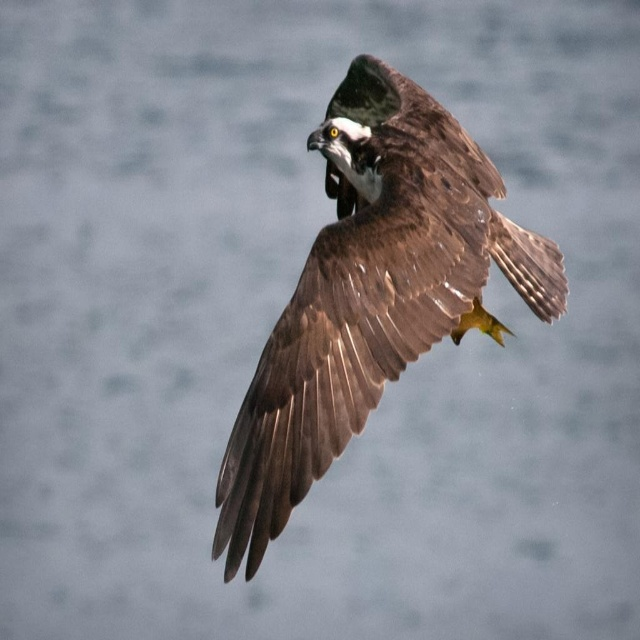Eagle: (210, 54, 570, 584)
